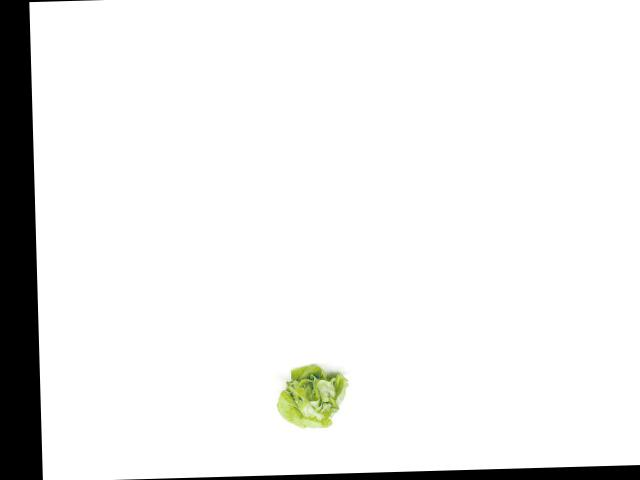lettuce: (274, 359, 351, 435)
